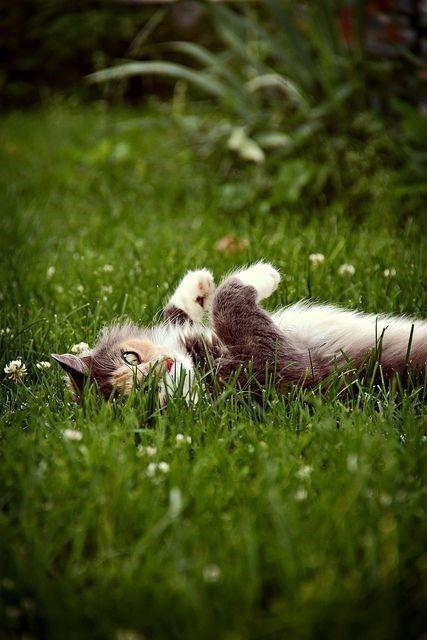kedo: (50, 258, 427, 419)
